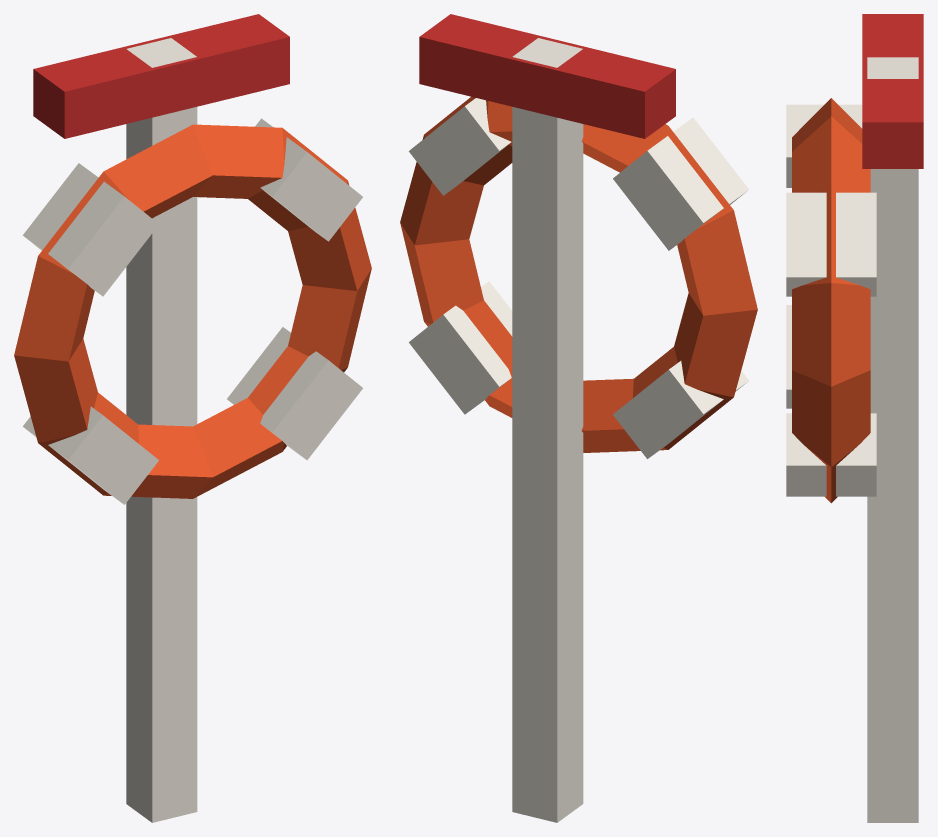
The model's file is livbojsstall.glb.
The picture shows the model from 3 angles, left to right: view 1: azimuth 30°, elevation 25°; view 2: azimuth 150°, elevation 25°; view 3: azimuth 270°, elevation 25°; orthographic projection.
Visible parts, largest first — view 1: livbojsstall; view 2: livbojsstall; view 3: livbojsstall.
Part boxes in pixels (x1=…): livbojsstall: x1=14, y1=14, x2=371, y2=822; livbojsstall: x1=400, y1=14, x2=757, y2=822; livbojsstall: x1=786, y1=14, x2=923, y2=822.
Bounding box in the file's own units: 0.7936 × 1.6 × 0.268.
